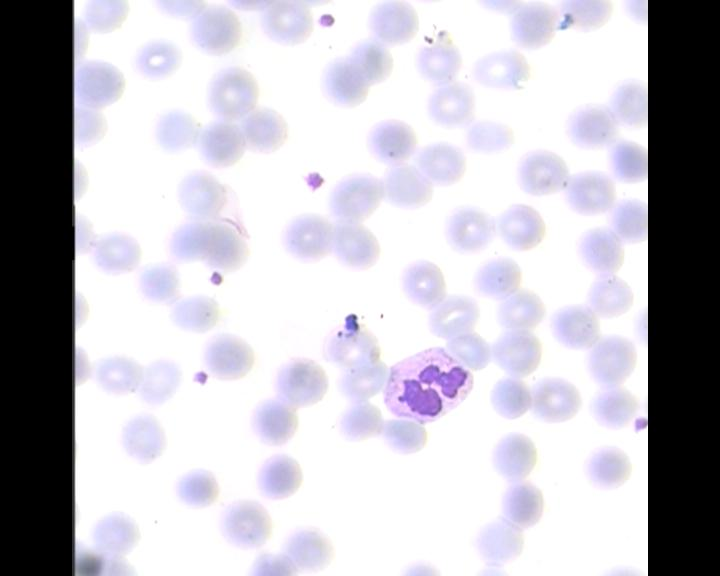neut: (380, 344, 480, 426)
